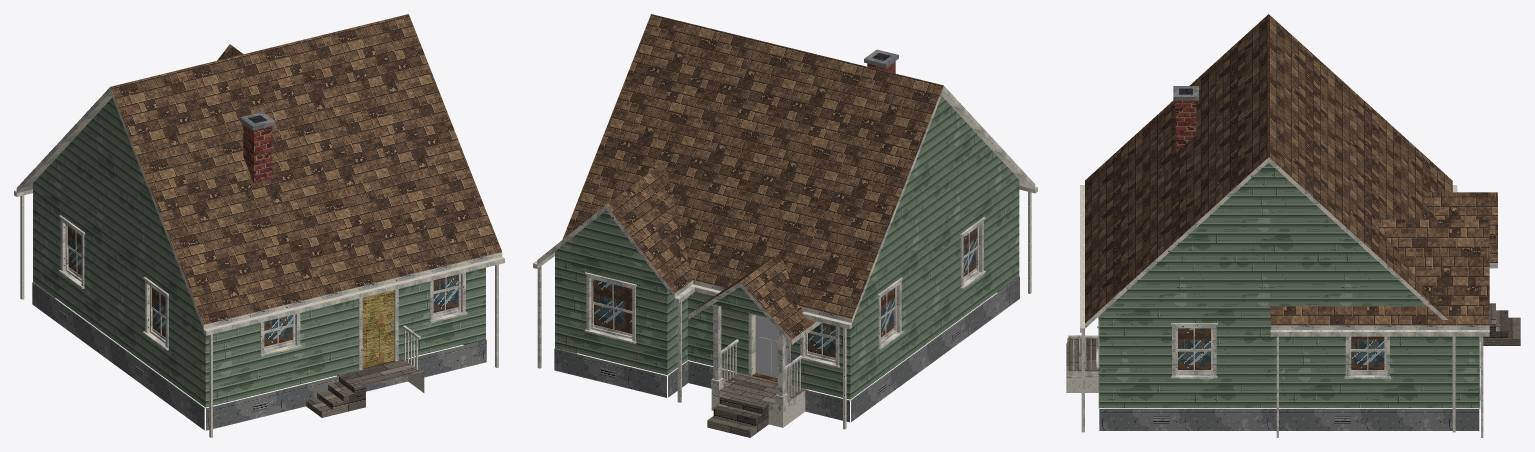
Rendered from RES_House_Cottage.obj.
3 views of the same model, side by side, from view 1: azimuth 30°, elevation 25°; view 2: azimuth 150°, elevation 25°; view 3: azimuth 270°, elevation 25° (orthographic). The views are drawn at different scales.
Visible parts, largest first — view 1: RES_House_Cottage_Exterior_M_Arch_RoofShinglesBrown, RES_House_Cottage_Exterior_M_Arch_SidingGreen, RES_House_Cottage_Exterior_M_Arch_ConcreteFoundation, RES_House_Cottage_Exterior_M_Arch_TrimPainted, RES_House_Cottage_Exterior_M_Town_PaintWhite, RES_House_Cottage_Exterior_M_Arch_WoodPlanksAged, RES_House_Cottage_Exterior_M_Arch_WindowGlassDirty, INT_Door_Back_M_Furn_WoodPainted, RES_House_Cottage_Exterior_M_Arch_BrickRed; view 2: RES_House_Cottage_Exterior_M_Arch_RoofShinglesBrown, RES_House_Cottage_Exterior_M_Arch_SidingGreen, RES_House_Cottage_Exterior_M_Arch_TrimPainted, RES_House_Cottage_Exterior_M_Arch_ConcreteFoundation, RES_House_Cottage_Exterior_M_Arch_WindowGlassDirty, RES_House_Cottage_Exterior_M_Arch_WoodPlanksAged, RES_House_Cottage_Exterior_M_Town_PaintWhite, INT_Door_Front_M_Town_PaintYellow, RES_House_Cottage_Exterior_M_Res_Lattice; view 3: RES_House_Cottage_Exterior_M_Arch_RoofShinglesBrown, RES_House_Cottage_Exterior_M_Arch_SidingGreen, RES_House_Cottage_Exterior_M_Arch_ConcreteFoundation, RES_House_Cottage_Exterior_M_Arch_TrimPainted, RES_House_Cottage_Exterior_M_Town_PaintWhite, RES_House_Cottage_Exterior_M_Arch_WindowGlassDirty, RES_House_Cottage_Exterior_M_Arch_WoodPlanksAged, RES_House_Cottage_Exterior_M_Arch_BrickRed, RES_House_Cottage_Exterior_M_Res_Lattice.
Boxes of the visible parts, box(x1,y1,x2,y2) form: RES_House_Cottage_Exterior_M_Arch_RoofShinglesBrown: box(110, 14, 501, 324); RES_House_Cottage_Exterior_M_Arch_SidingGreen: box(33, 98, 485, 407); RES_House_Cottage_Exterior_M_Arch_ConcreteFoundation: box(32, 112, 486, 430); RES_House_Cottage_Exterior_M_Arch_TrimPainted: box(16, 87, 502, 391); RES_House_Cottage_Exterior_M_Town_PaintWhite: box(14, 189, 504, 437); RES_House_Cottage_Exterior_M_Arch_WoodPlanksAged: box(306, 358, 423, 417); RES_House_Cottage_Exterior_M_Arch_WindowGlassDirty: box(67, 226, 458, 346); INT_Door_Back_M_Furn_WoodPainted: box(362, 290, 393, 367); RES_House_Cottage_Exterior_M_Arch_BrickRed: box(243, 124, 272, 183); RES_House_Cottage_Exterior_M_Arch_RoofShinglesBrown: box(562, 14, 943, 339); RES_House_Cottage_Exterior_M_Arch_SidingGreen: box(555, 96, 1019, 399); RES_House_Cottage_Exterior_M_Arch_TrimPainted: box(537, 85, 1035, 412); RES_House_Cottage_Exterior_M_Arch_ConcreteFoundation: box(554, 49, 1019, 422); RES_House_Cottage_Exterior_M_Arch_WindowGlassDirty: box(593, 228, 977, 357); RES_House_Cottage_Exterior_M_Arch_WoodPlanksAged: box(707, 372, 805, 437); RES_House_Cottage_Exterior_M_Town_PaintWhite: box(533, 186, 1037, 429); INT_Door_Front_M_Town_PaintYellow: box(755, 315, 787, 380); RES_House_Cottage_Exterior_M_Res_Lattice: box(711, 395, 805, 427); RES_House_Cottage_Exterior_M_Arch_RoofShinglesBrown: box(1085, 14, 1497, 325); RES_House_Cottage_Exterior_M_Arch_SidingGreen: box(1099, 162, 1479, 407); RES_House_Cottage_Exterior_M_Arch_ConcreteFoundation: box(1098, 86, 1480, 430); RES_House_Cottage_Exterior_M_Arch_TrimPainted: box(1066, 157, 1497, 378); RES_House_Cottage_Exterior_M_Town_PaintWhite: box(1080, 185, 1489, 437); RES_House_Cottage_Exterior_M_Arch_WindowGlassDirty: box(1178, 328, 1384, 369); RES_House_Cottage_Exterior_M_Arch_WoodPlanksAged: box(1066, 303, 1520, 371); RES_House_Cottage_Exterior_M_Arch_BrickRed: box(1175, 100, 1196, 152); RES_House_Cottage_Exterior_M_Res_Lattice: box(1066, 338, 1480, 392).
Size of the model in its own units: 8.42 by 7.42 by 11.
